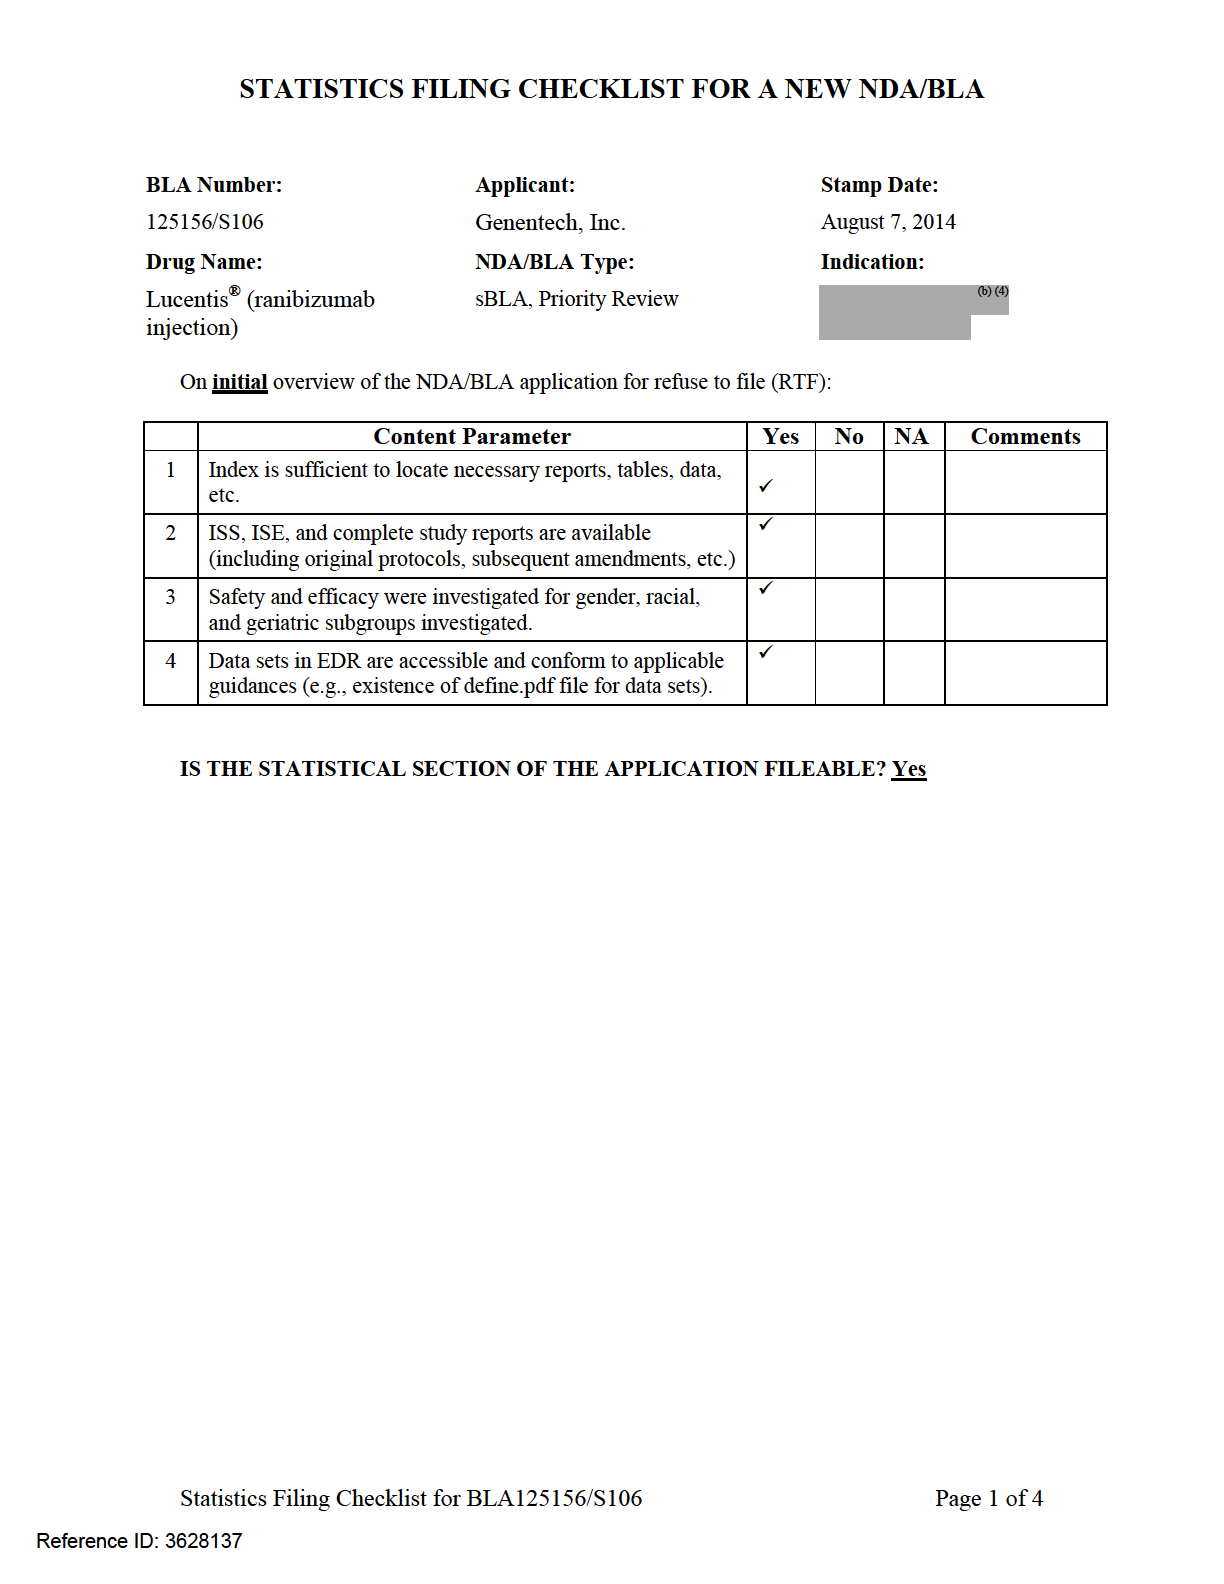full_lined: (141, 420, 1108, 706)
nolines: (141, 168, 1014, 345)
